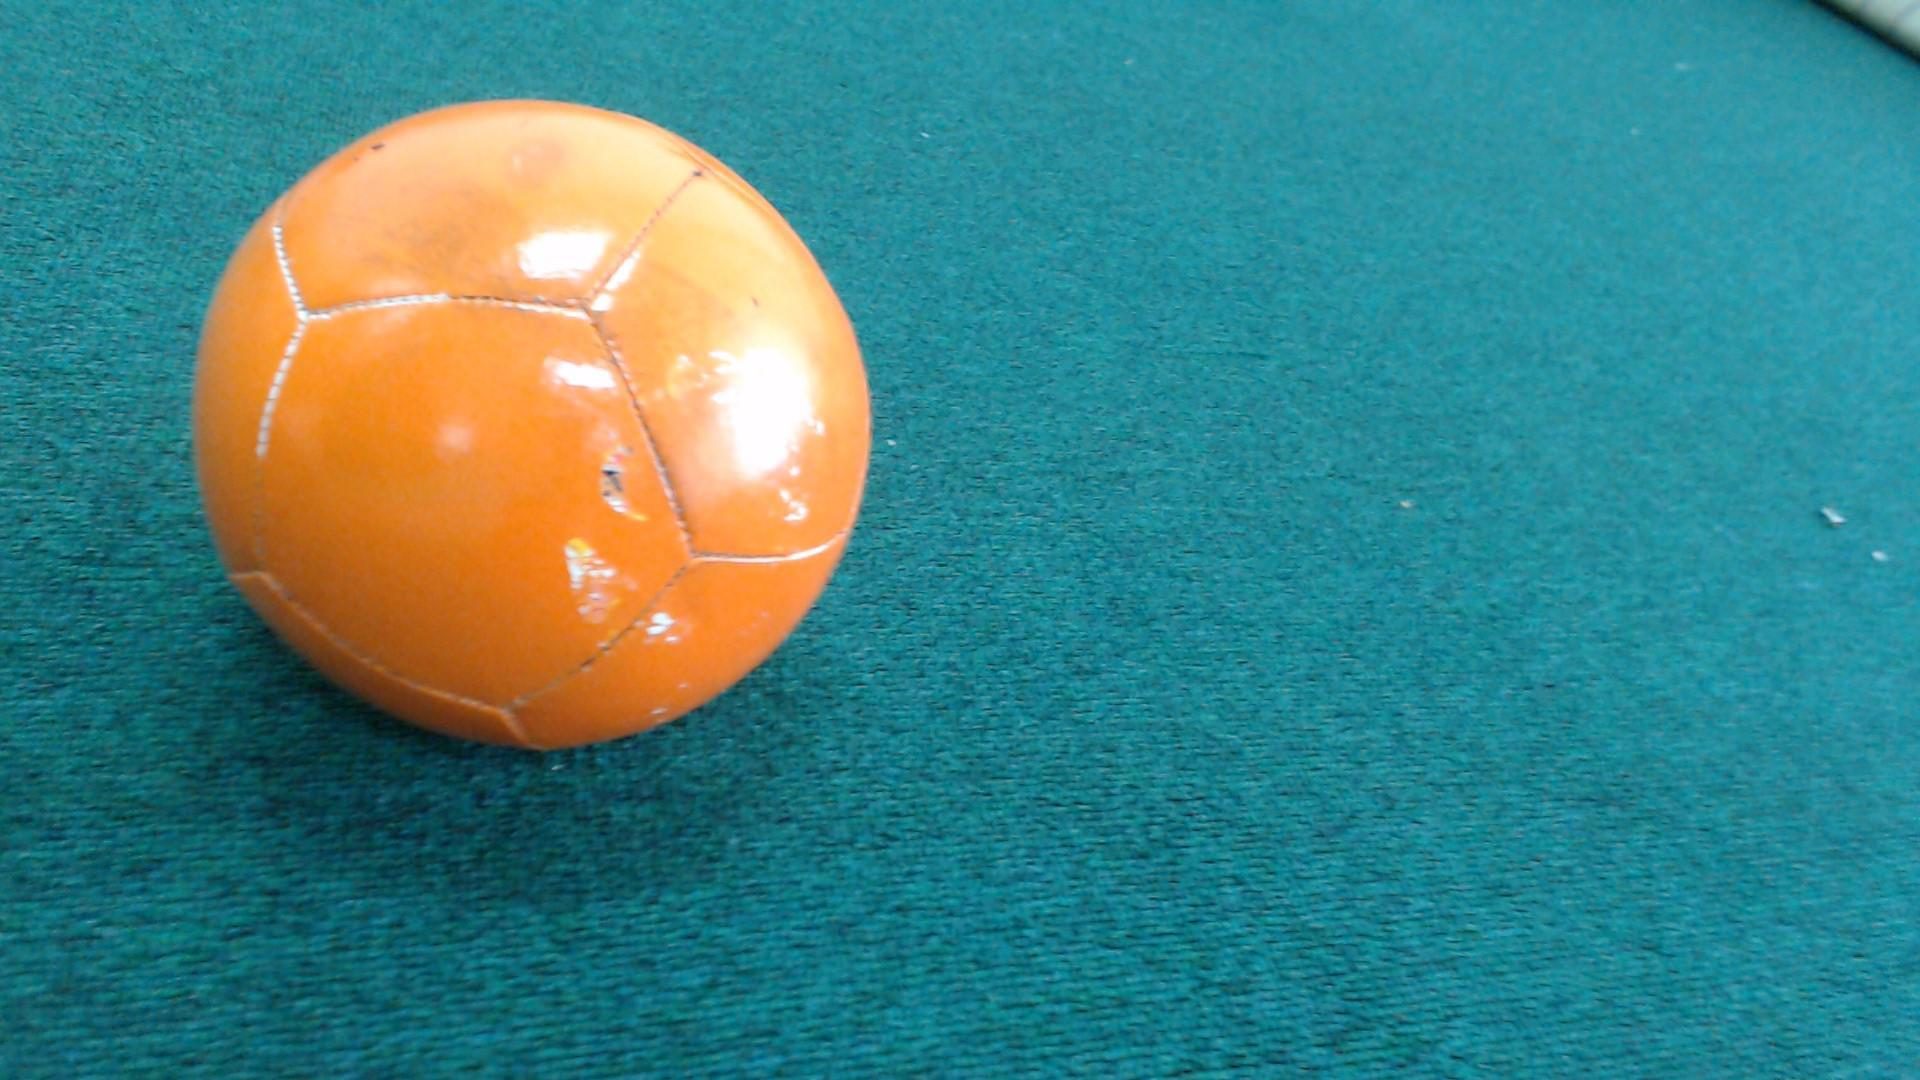bola: (154, 83, 923, 799)
